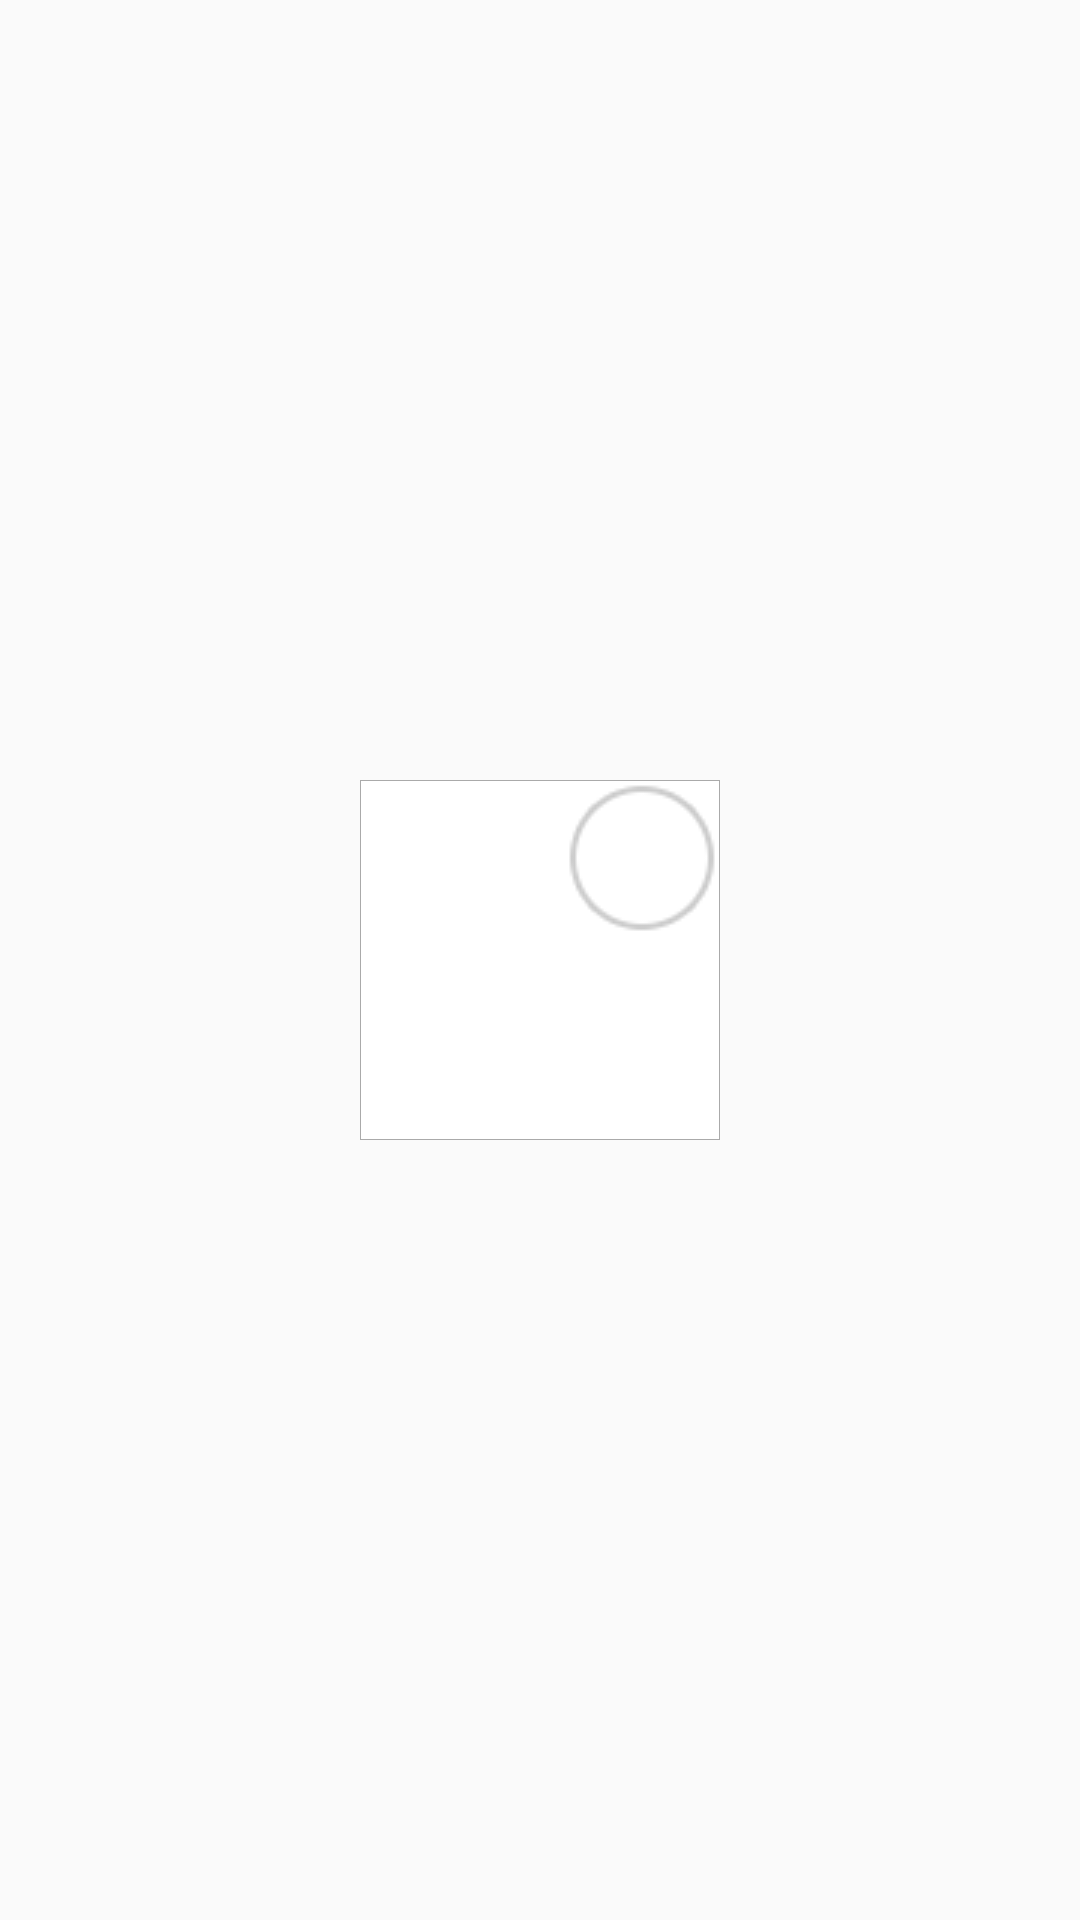

Point at icon controls on the screen. Image size 1080 × 1920, points as [x,y].
unselect: [642,858]
